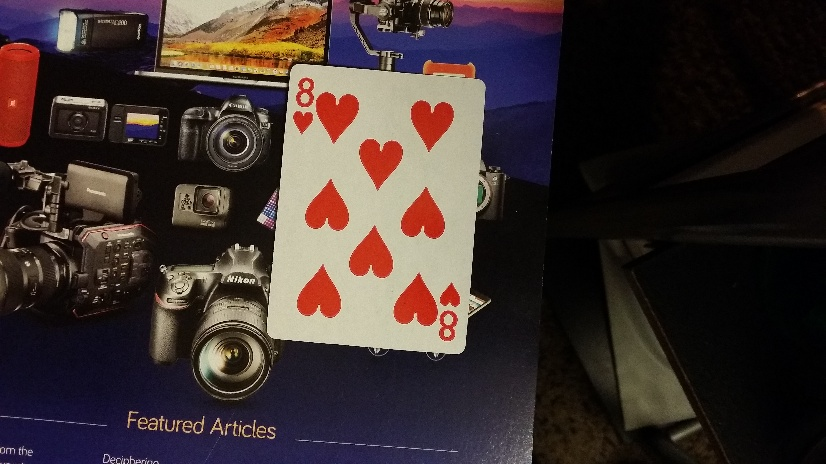H8: (438, 276, 460, 344), (293, 71, 315, 133)
